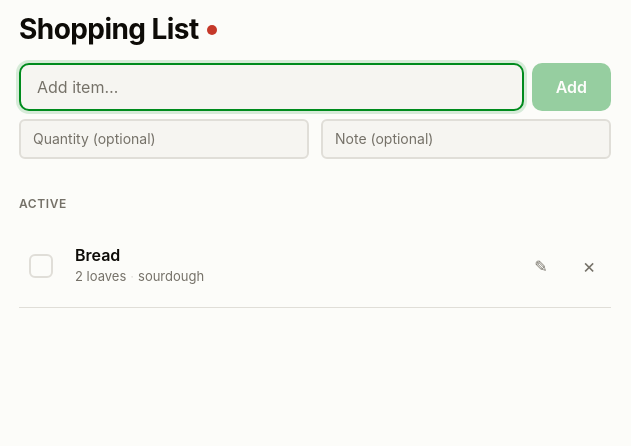
Task 4 — Inline edit mode › AC10: save failure shows error banner and keeps edit mode open
Expected: the text "Bread" is shown, [75,245,120,265]
Click the button named "edit bread". click: (541, 266)
box: [519,244,563,288]
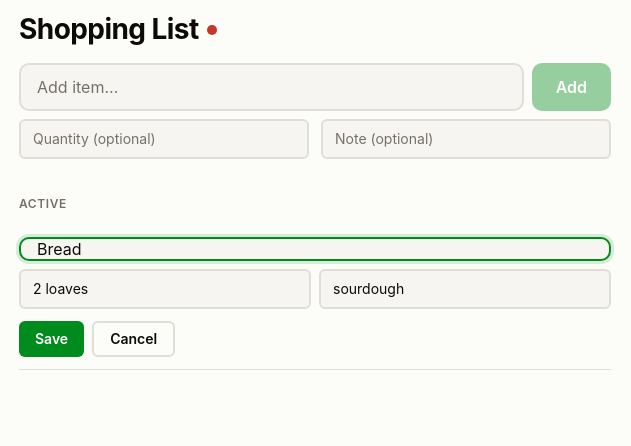
Result: the field named "Edit item name" holds "Bread"
Replace the text in the field named "Edit item name" with "New Name". click: (315, 249)
box: [19,237,611,261]
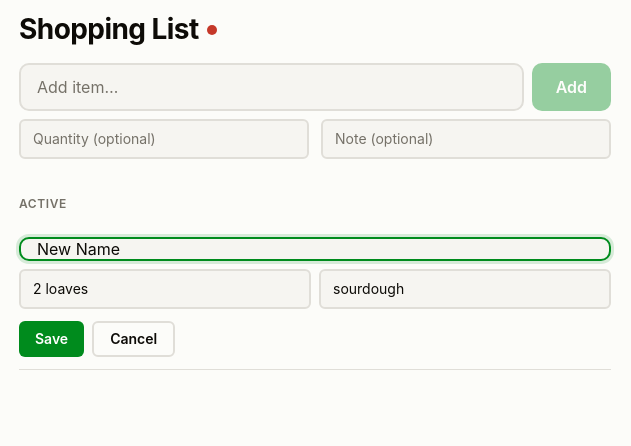
Click the button with aria-label "save changes". click: (52, 339)
box: [19,321,84,357]
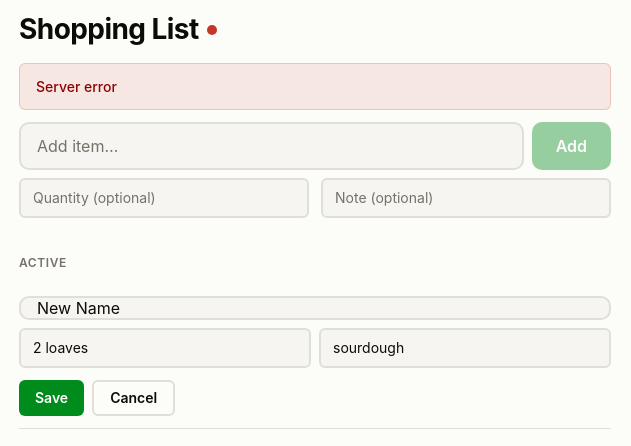
Result: the message reads "Server error" at [36,78,117,95]
